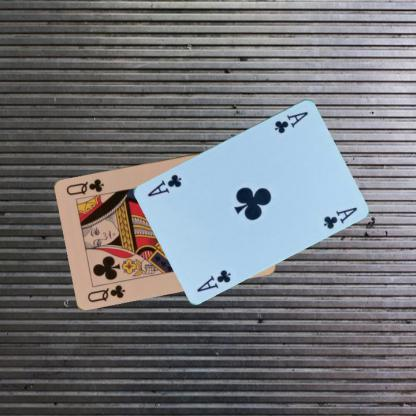Ac: (194, 266, 232, 293), (272, 108, 310, 134)
Qc: (85, 282, 127, 303)
